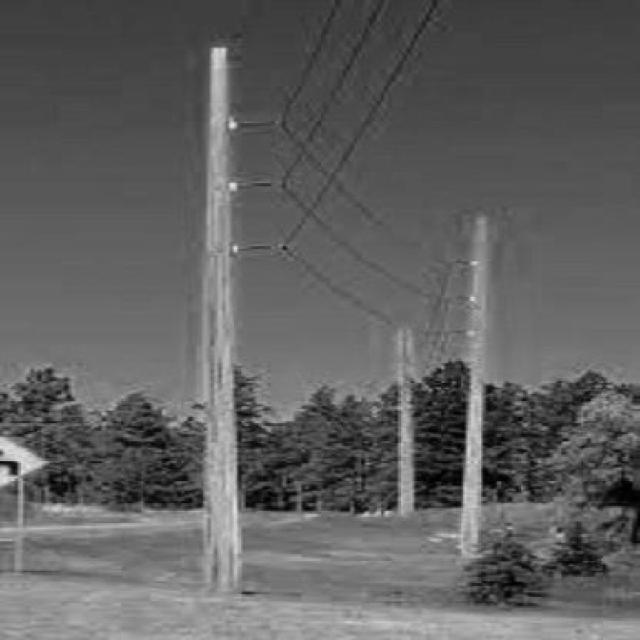Pole: (205, 46, 241, 592), (459, 215, 489, 554), (398, 328, 412, 516)
